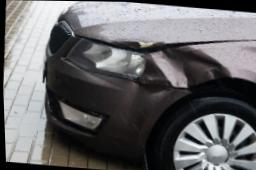Bumper: (39, 55, 184, 157)
Fender: (135, 40, 256, 97)
